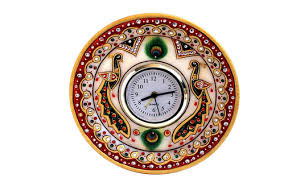alarm_clock: (73, 9, 230, 161), (73, 9, 187, 123), (117, 60, 187, 123)
